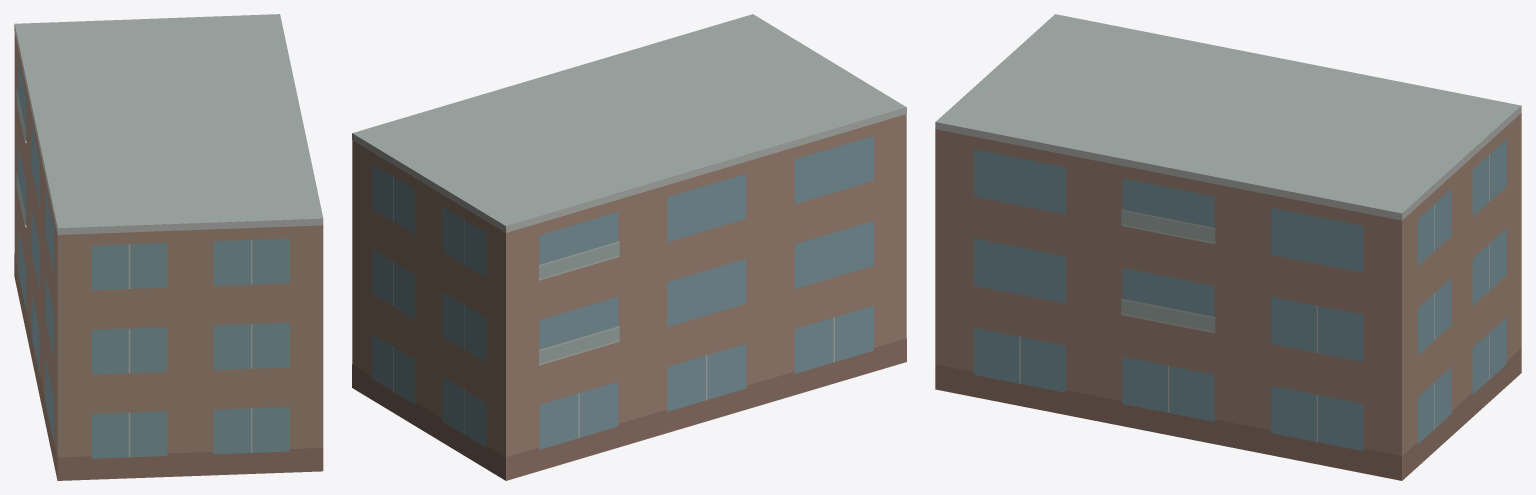
The model's file is survey-upis-32705012.glb.
3 renders of one model, left to right at view 1: azimuth 30°, elevation 25°; view 2: azimuth 150°, elevation 25°; view 3: azimuth 270°, elevation 25°, orthographic. The views are drawn at different scales.
Parts seen in each view (by area): view 1: survey-upis-32705012.tmp; view 2: survey-upis-32705012.tmp; view 3: survey-upis-32705012.tmp.
Boxes of the visible parts, left/top/right/bottom form: survey-upis-32705012.tmp: left=14, top=14, right=323, bottom=480; survey-upis-32705012.tmp: left=352, top=14, right=906, bottom=480; survey-upis-32705012.tmp: left=935, top=14, right=1521, bottom=480.
Bounding box in the file's own units: 14.65 × 9.15 × 18.19.
